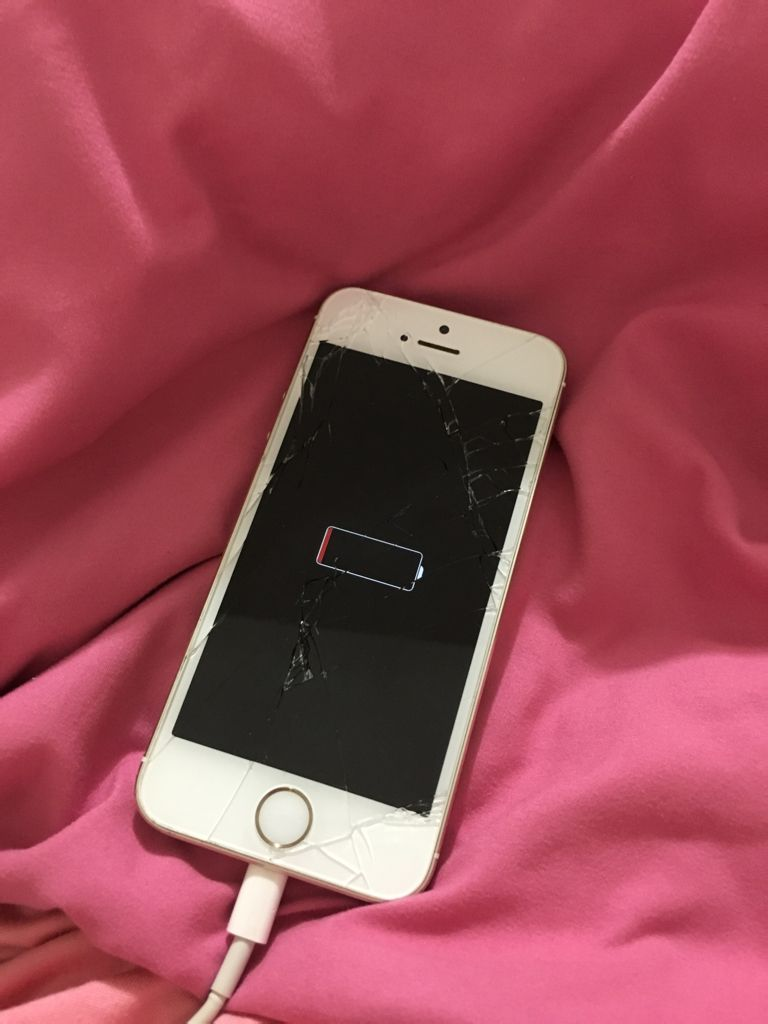phone: (151, 283, 562, 904)
